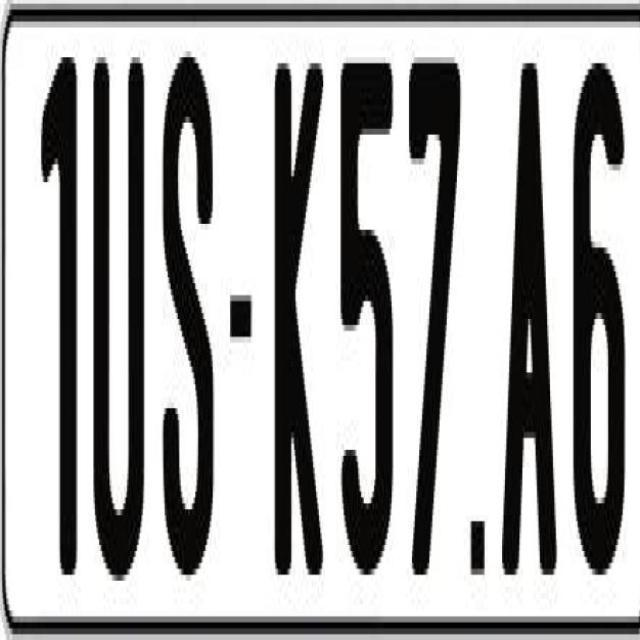license-plate: (40, 28, 640, 640)
